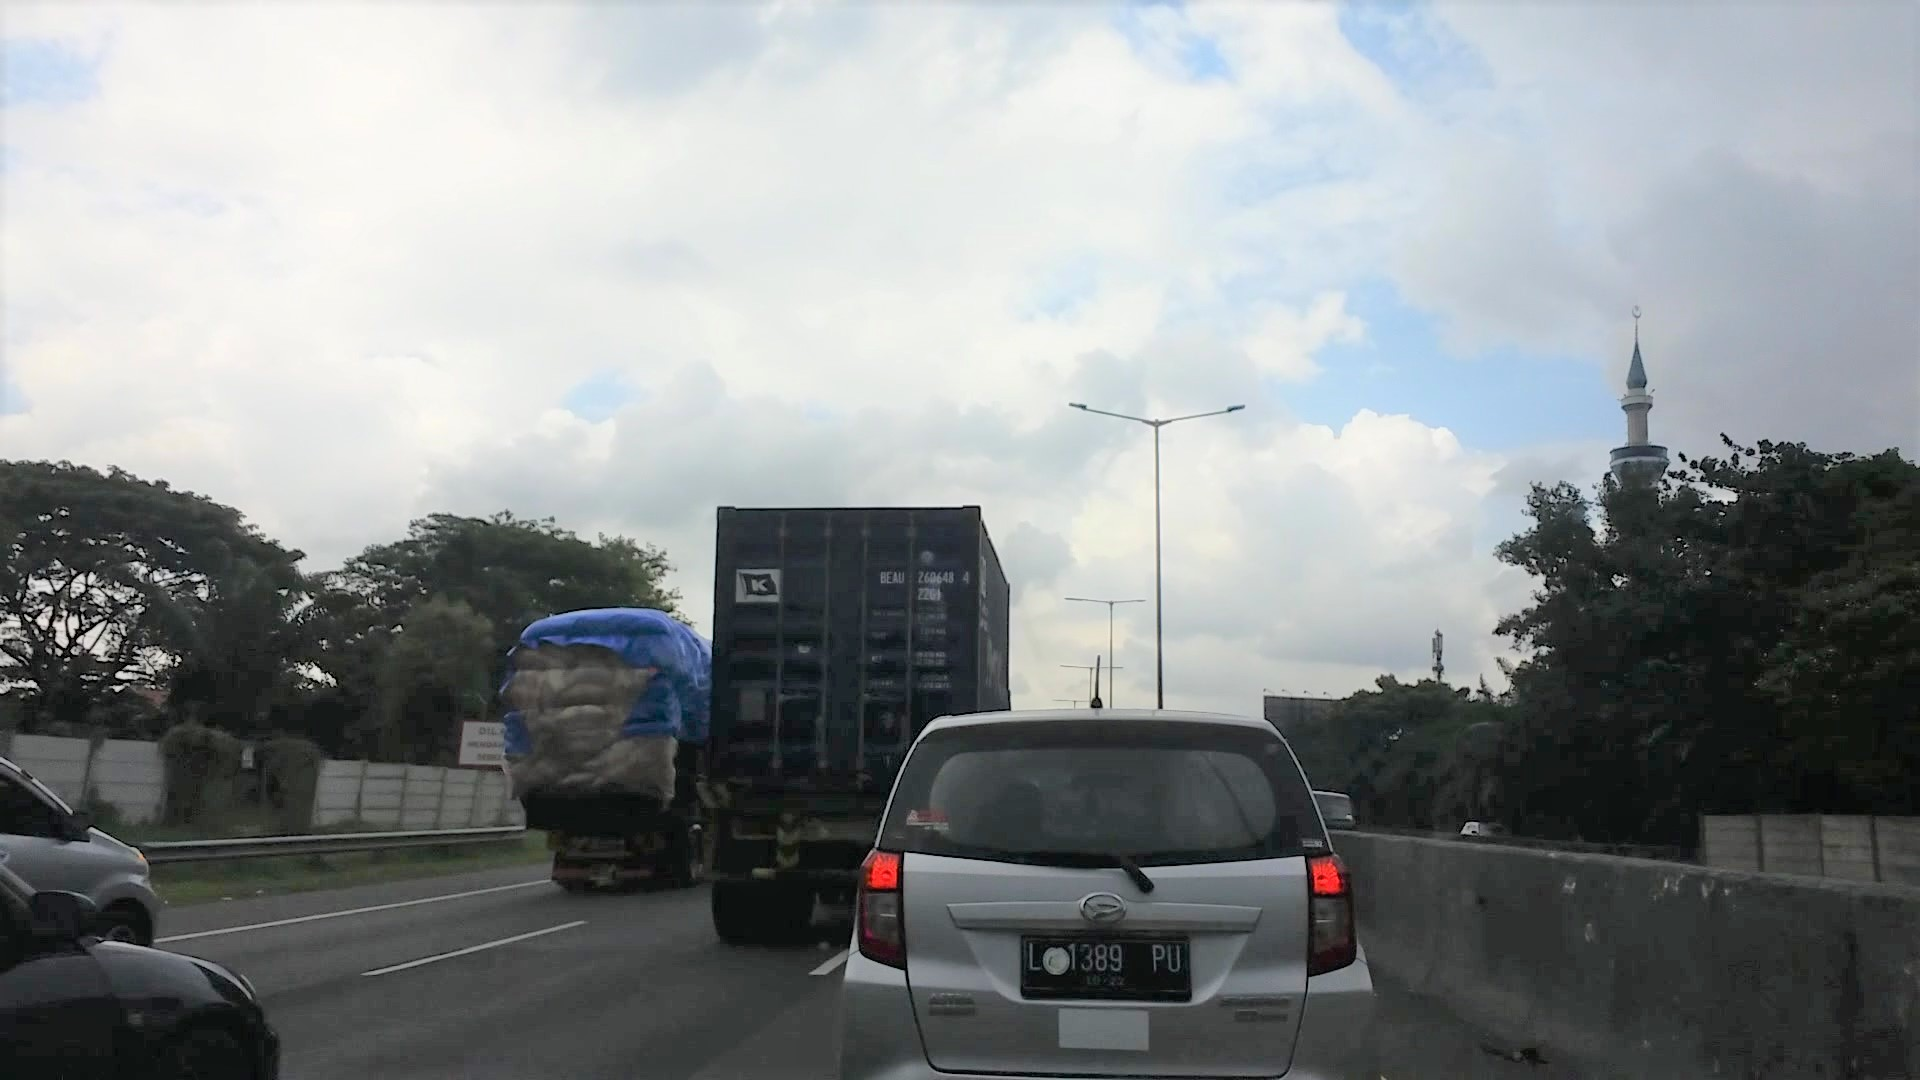plate_positive: (1021, 934, 1191, 1002)
